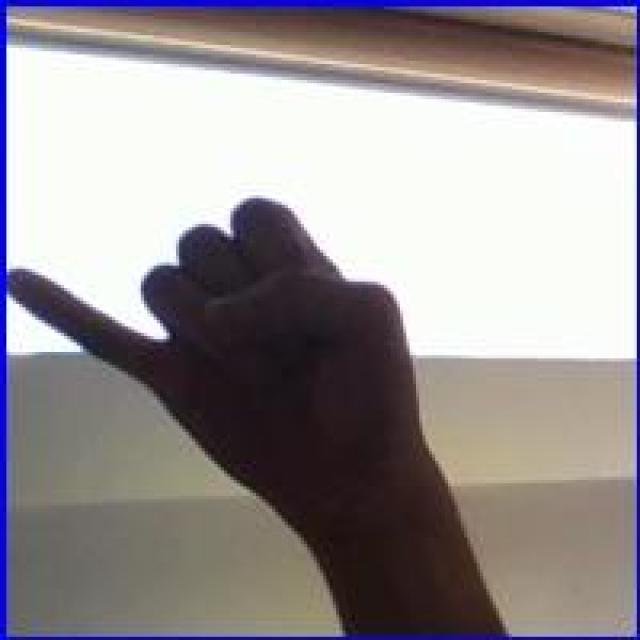J: (11, 160, 437, 493)
